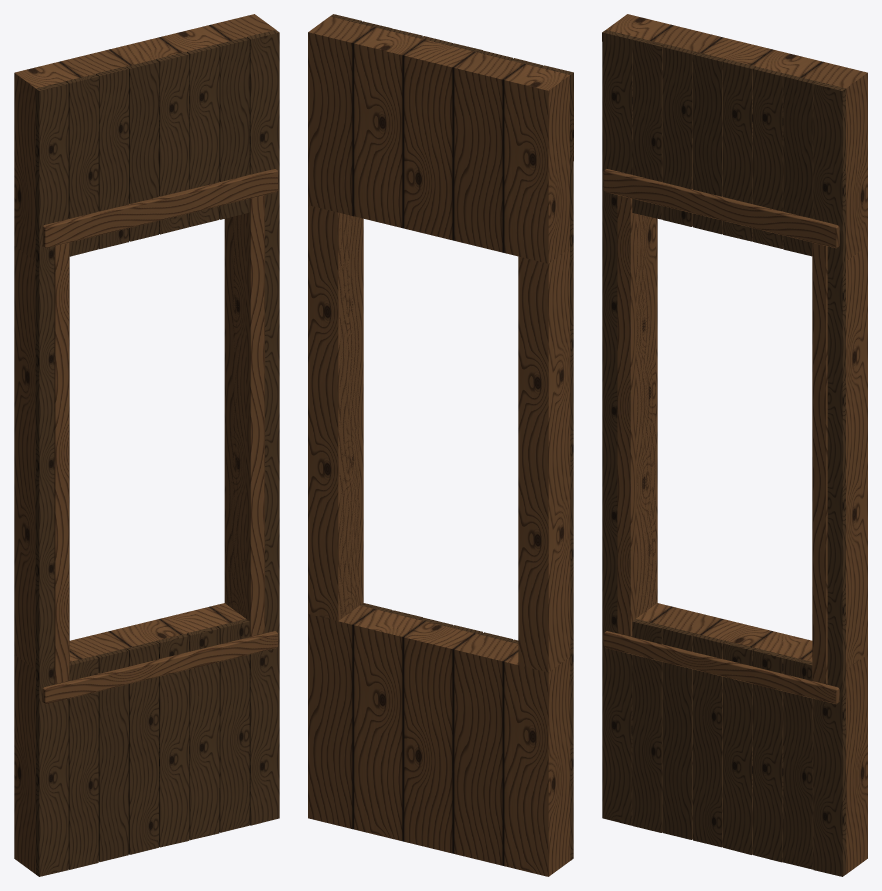
Rendered from Wall_Window.glb.
3 views of the same model, side by side, from view 1: azimuth 30°, elevation 25°; view 2: azimuth 150°, elevation 25°; view 3: azimuth 330°, elevation 25° (orthographic).
Parts seen in each view (by area): view 1: Wall_Window; view 2: Wall_Window; view 3: Wall_Window.
Part boxes in pixels (x1,y1,x2,y2): Wall_Window: (14, 14, 279, 876); Wall_Window: (308, 14, 573, 876); Wall_Window: (602, 14, 867, 876).
Size of the model in its own units: 1.6 by 5 by 0.32.
Materials: 2 (2 with a texture image).
